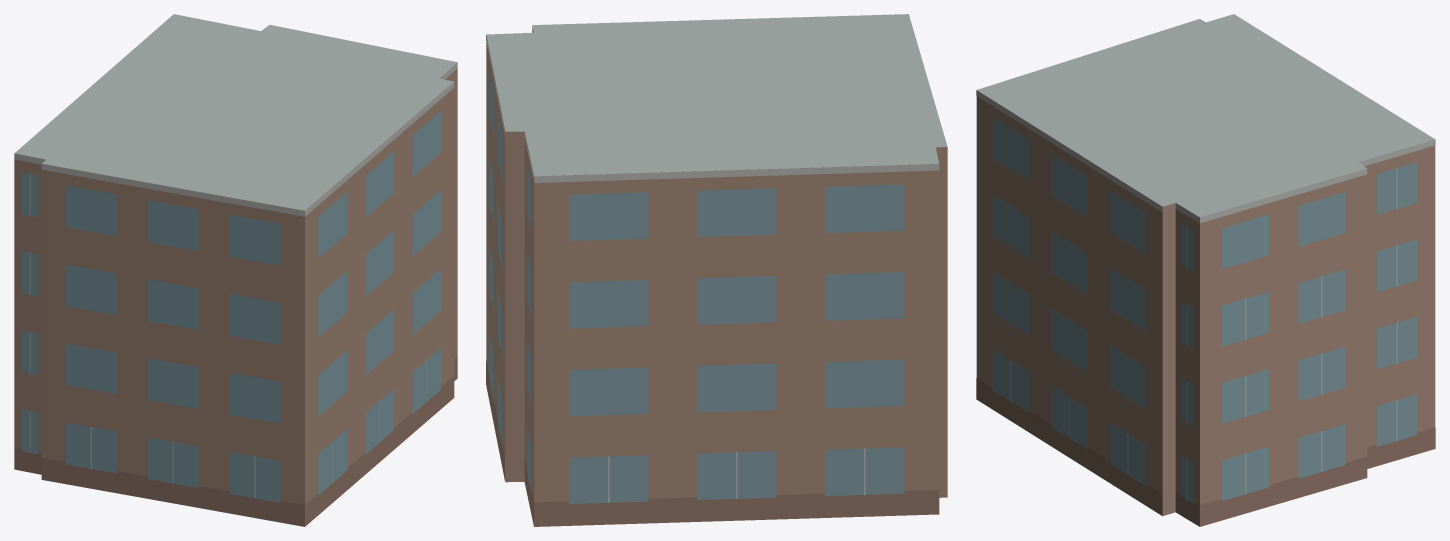
File: survey-upis-32660700.glb
3 views of the same model, side by side, from view 1: azimuth 30°, elevation 25°; view 2: azimuth 150°, elevation 25°; view 3: azimuth 270°, elevation 25° (orthographic). The views are drawn at different scales.
Visible parts, largest first — view 1: survey-upis-32660700.tmp; view 2: survey-upis-32660700.tmp; view 3: survey-upis-32660700.tmp.
Part boxes in pixels (<box>): survey-upis-32660700.tmp: <box>14,14,457,526</box>; survey-upis-32660700.tmp: <box>486,14,947,526</box>; survey-upis-32660700.tmp: <box>976,14,1435,526</box>.
Size of the model in its own units: 18.06 by 12.8 by 17.22.
